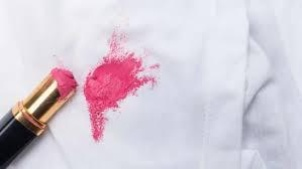lipstick: (76, 39, 159, 139)
